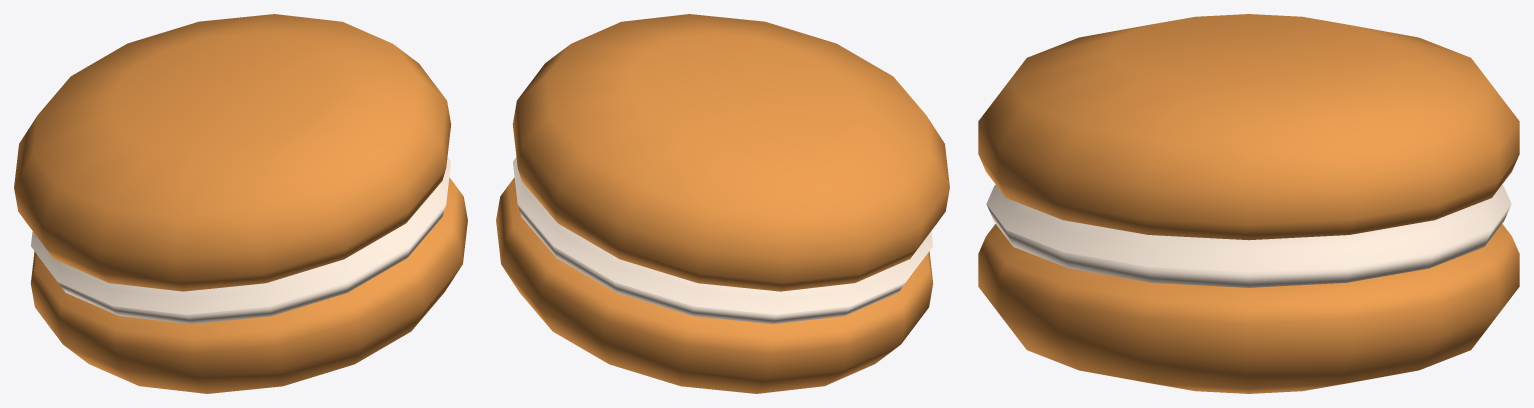
File: SM_macaron_09.glb
3 views of the same model, side by side, from view 1: azimuth 30°, elevation 25°; view 2: azimuth 150°, elevation 25°; view 3: azimuth 270°, elevation 25° (orthographic). The views are drawn at different scales.
Parts seen in each view (by area): view 1: SM_macaron_09; view 2: SM_macaron_09; view 3: SM_macaron_09.
Part boxes in pixels (x1,y1,x2,y2): SM_macaron_09: (14, 14, 467, 393); SM_macaron_09: (496, 14, 949, 393); SM_macaron_09: (978, 14, 1519, 393).
Bounding box in the file's own units: 0.0942 × 0.0605 × 0.0906.
Materials: 1 (1 with a texture image).
